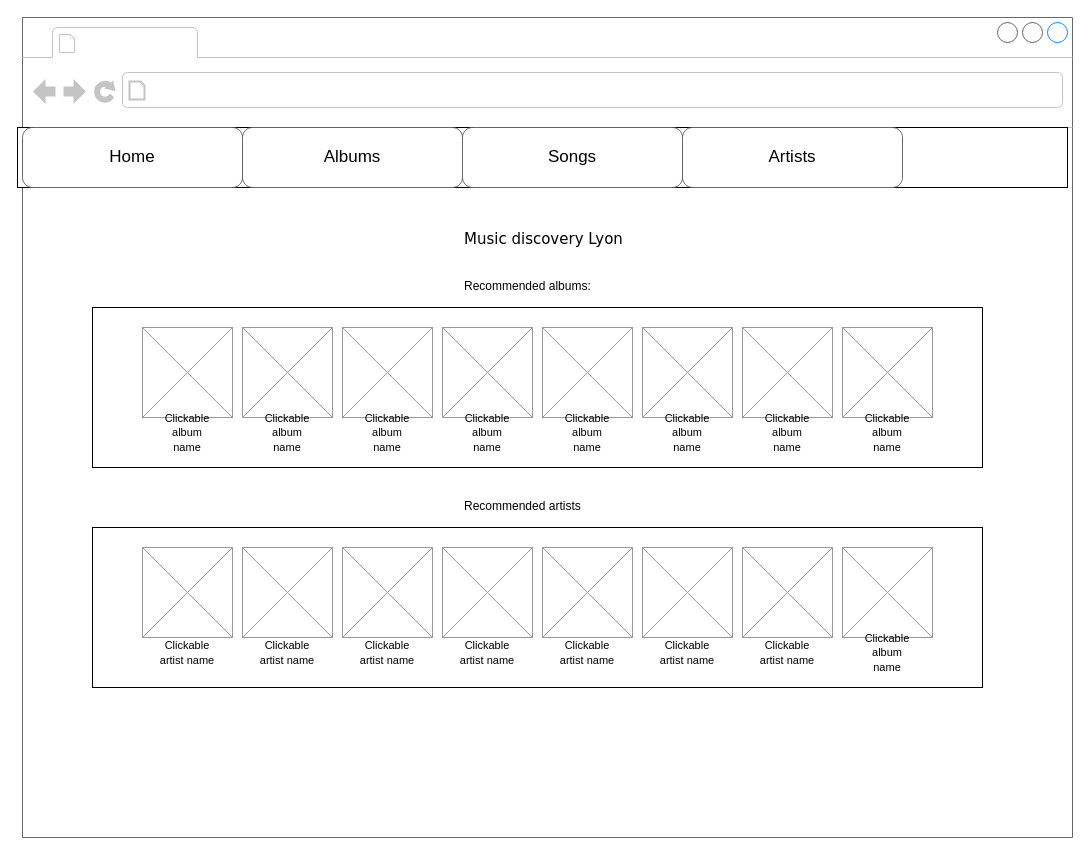
Image size: 1090x855. Some labels were removed from this diagram. Each missing label, with the centre of its shape:
"https://www.default.com" goes at (x=277, y=90).
"Page 1" goes at (x=137, y=42).
